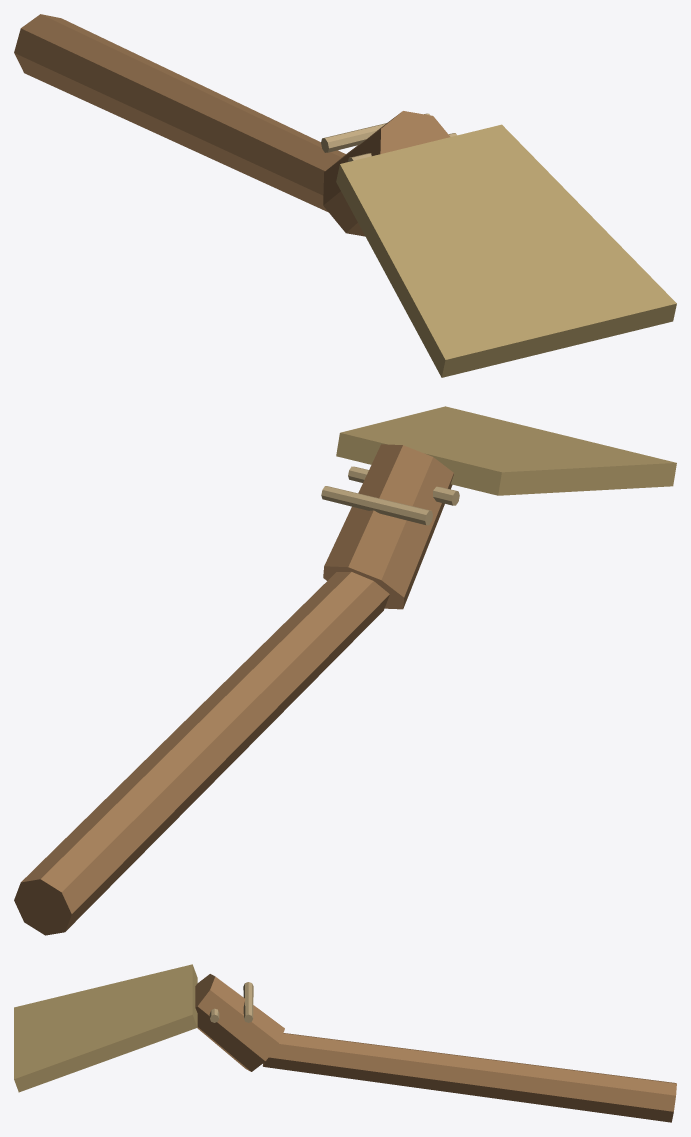
The picture shows the model from 3 angles, top to bottom: view 1: azimuth 30°, elevation 25°; view 2: azimuth 150°, elevation 25°; view 3: azimuth 270°, elevation 25°; orthographic projection. The views are drawn at different scales.
Parts seen in each view (by area): view 1: CE-050 Transverse-bladed shipwright adze batched; view 2: CE-050 Transverse-bladed shipwright adze batched; view 3: CE-050 Transverse-bladed shipwright adze batched.
Boxes of the visible parts, bbox=[...] form: CE-050 Transverse-bladed shipwright adze batched: bbox=[14, 14, 676, 377]; CE-050 Transverse-bladed shipwright adze batched: bbox=[14, 406, 676, 935]; CE-050 Transverse-bladed shipwright adze batched: bbox=[14, 964, 676, 1122].
Bounding box in the file's own units: 0.2 × 0.1887 × 0.7793.
